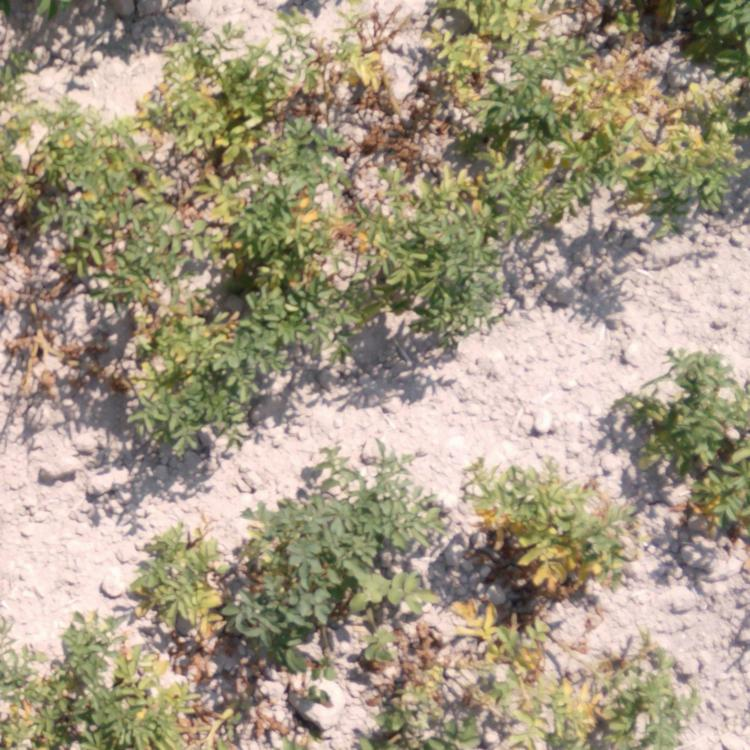healthy: (279, 442, 451, 621)
stressed: (368, 628, 684, 750), (176, 39, 328, 261), (1, 633, 274, 741), (360, 172, 507, 363), (3, 108, 163, 278), (111, 285, 238, 463), (458, 464, 627, 594), (620, 67, 736, 242), (646, 348, 750, 537), (450, 1, 613, 116), (340, 6, 432, 154), (129, 531, 261, 625), (251, 269, 338, 382), (516, 139, 606, 228), (4, 314, 89, 390), (668, 3, 750, 39)
